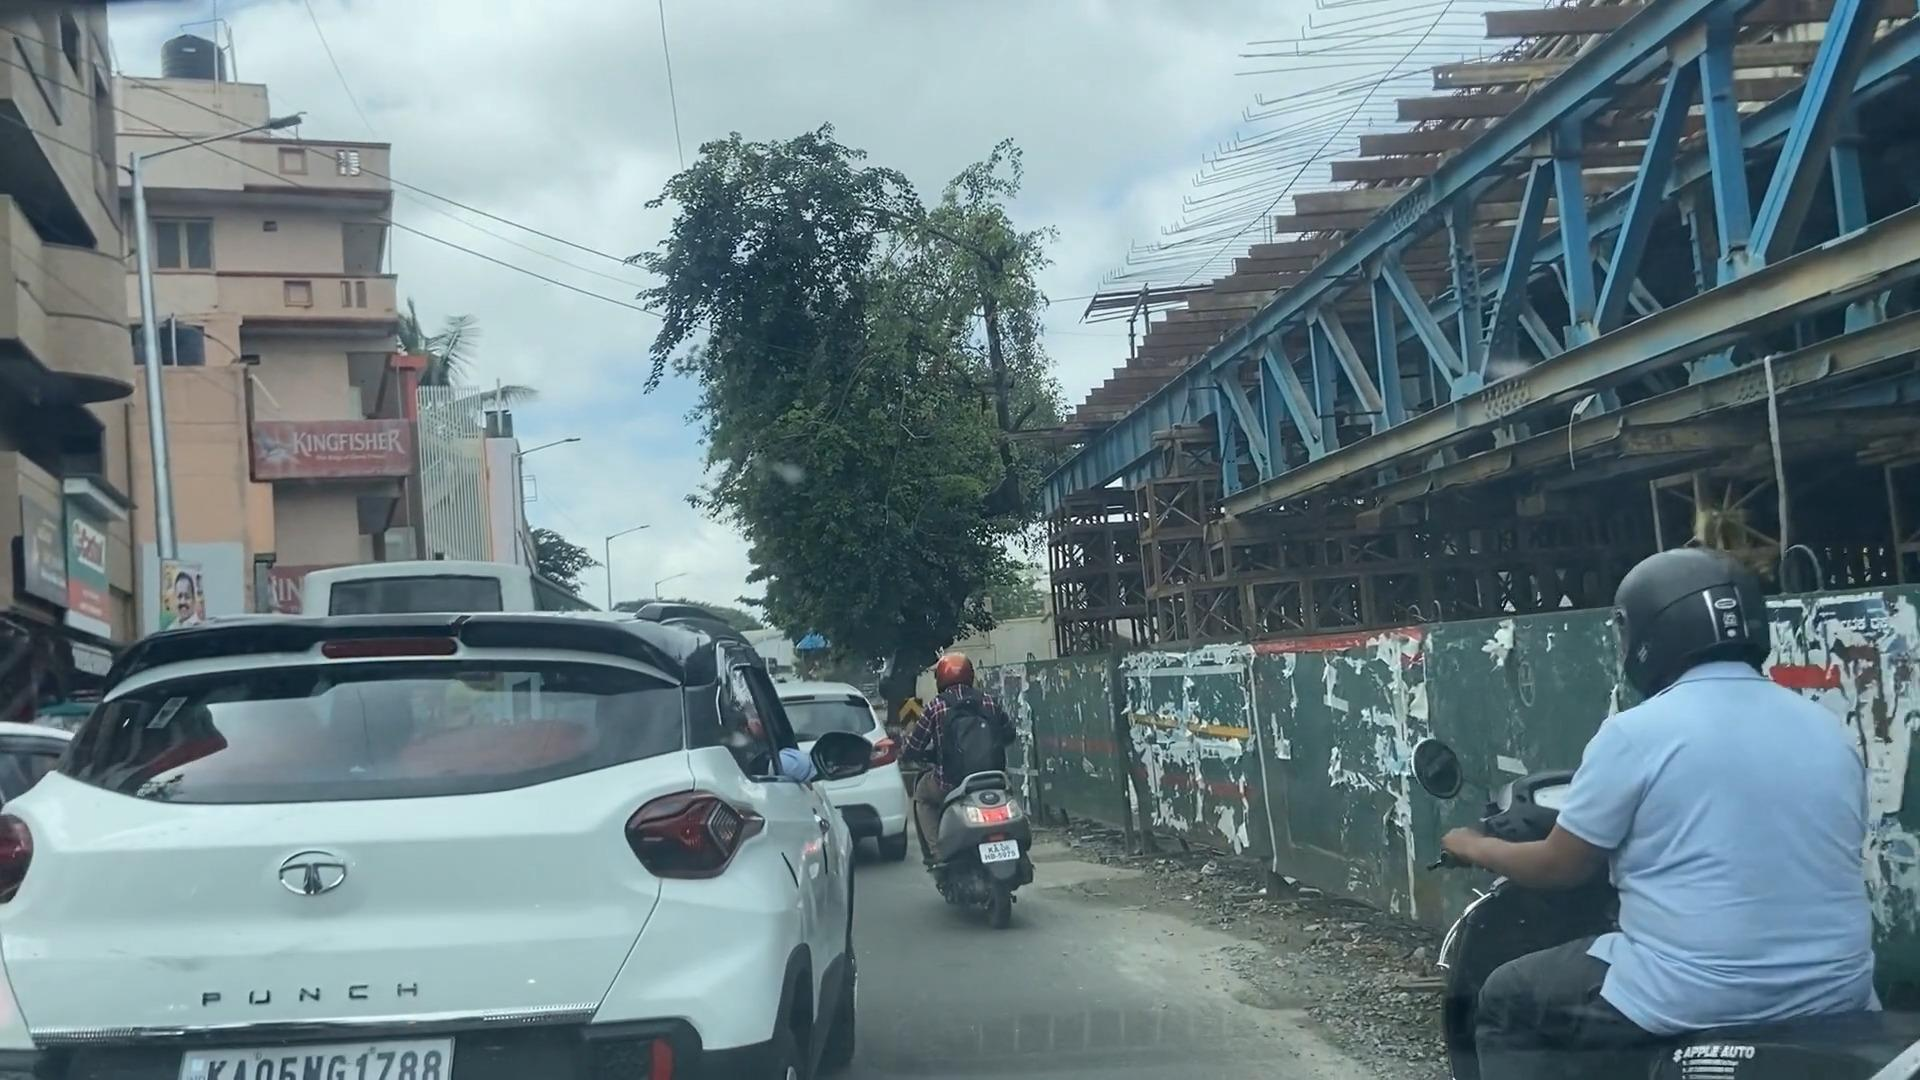LMV: (4, 644, 748, 1080), (909, 655, 1034, 910)
